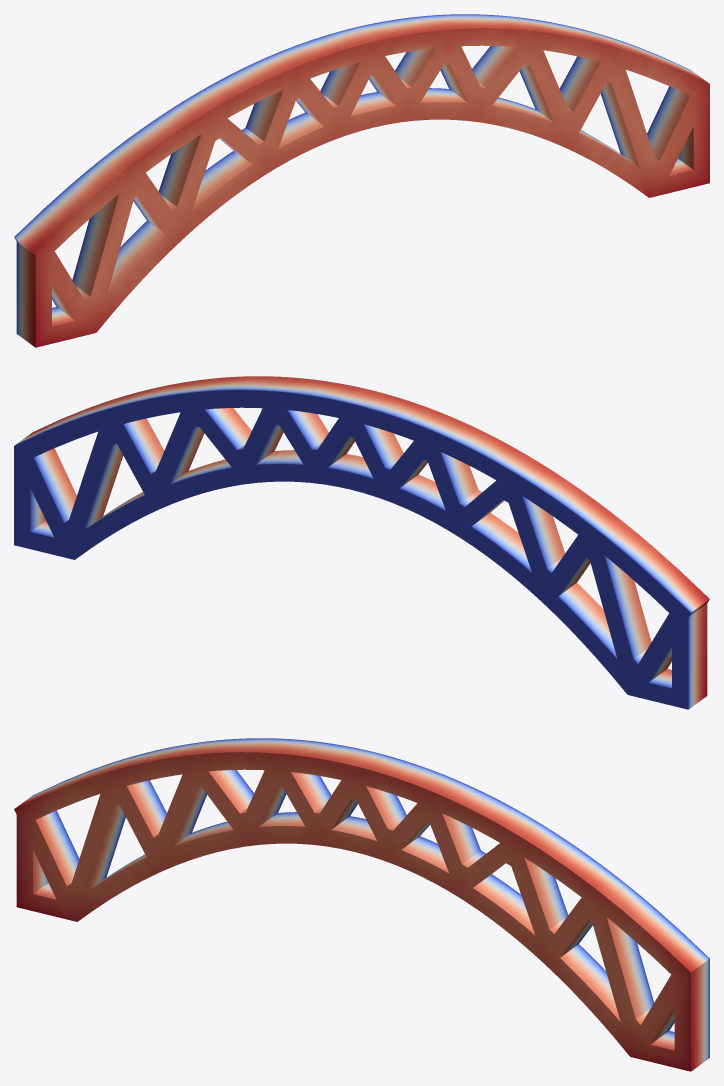
The model's file is trussarc.gltf.
The picture shows the model from 3 angles, top to bottom: view 1: azimuth 30°, elevation 25°; view 2: azimuth 150°, elevation 25°; view 3: azimuth 330°, elevation 25°; orthographic projection.
Parts seen in each view (by area): view 1: Renderer Node; view 2: Renderer Node; view 3: Renderer Node.
Boxes of the visible parts, x1=… form: Renderer Node: x1=14, y1=14, x2=709, y2=347; Renderer Node: x1=14, y1=376, x2=709, y2=709; Renderer Node: x1=14, y1=738, x2=709, y2=1071.
Bounding box in the file's own units: 2.06 × 0.65 × 0.1.
Materials: 1 (1 with a texture image).
